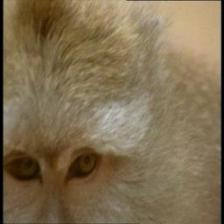monkey: (3, 8, 174, 224)
